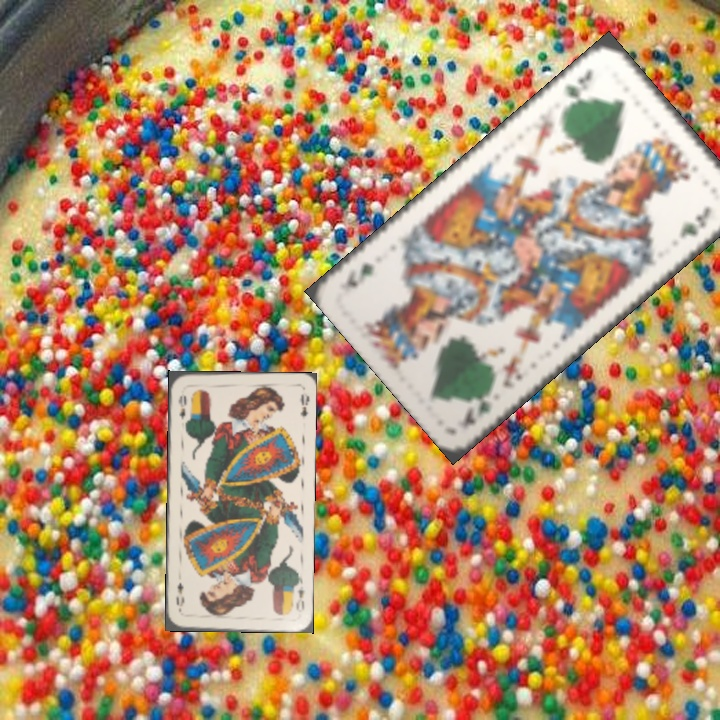EO: (289, 576, 307, 614), (174, 392, 189, 422)
GK: (457, 384, 497, 430), (559, 64, 596, 110)
